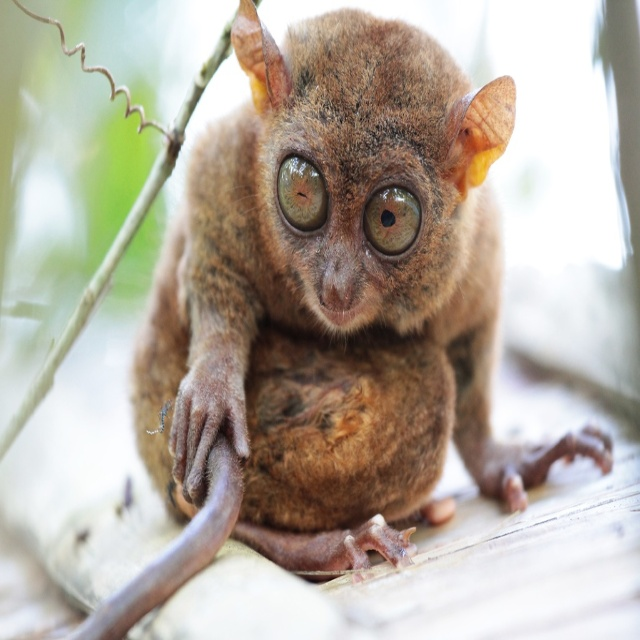Monkey: (60, 0, 617, 640)
